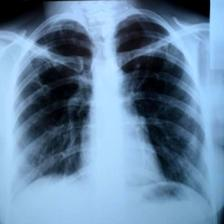tuberculosis: (9, 10, 218, 214)
